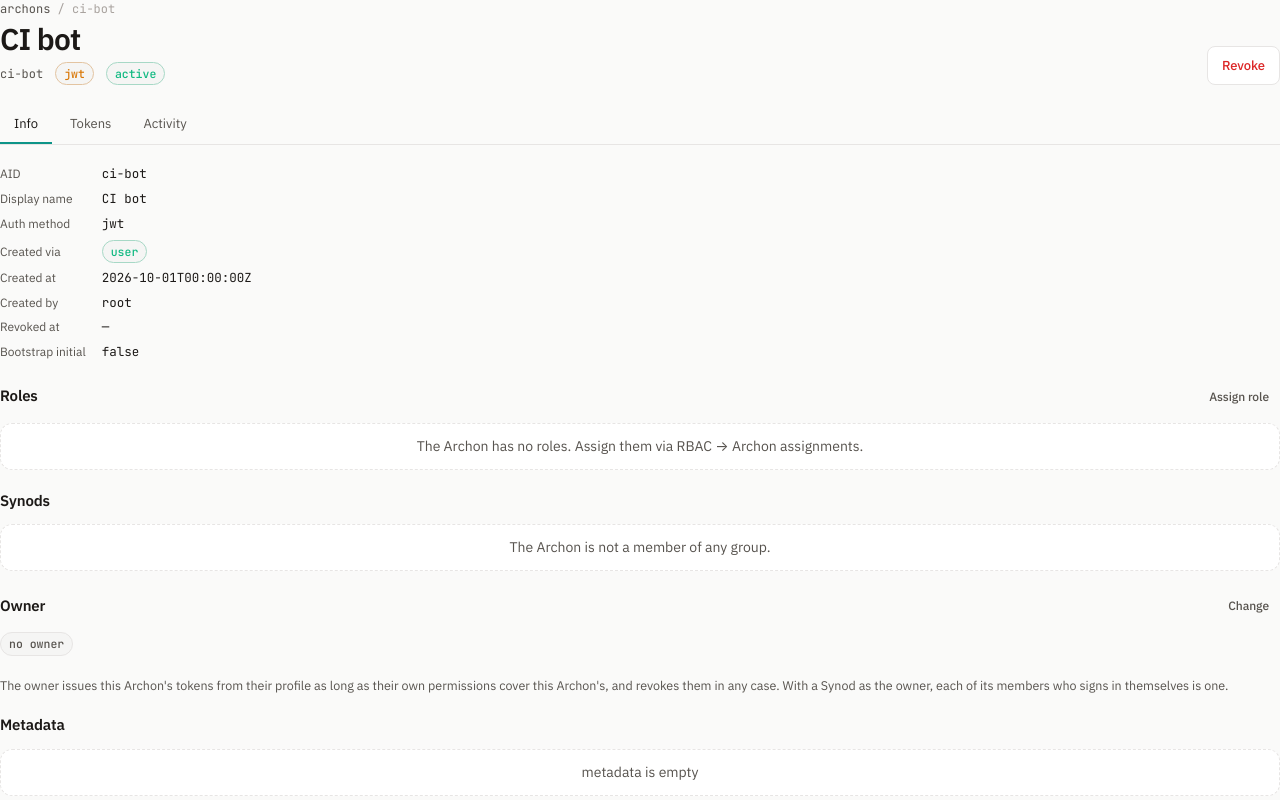
Test: Archon card → owner › Change sets a Synod as the owner: PUT /v1/operators/{aid}/owner
Expected: the element with test id "archon-owner" reads "no owner", [9, 636, 64, 651]
Click the button with test id "owner-change-btn" at coordinates (1249, 606), box [1217, 591, 1279, 620]
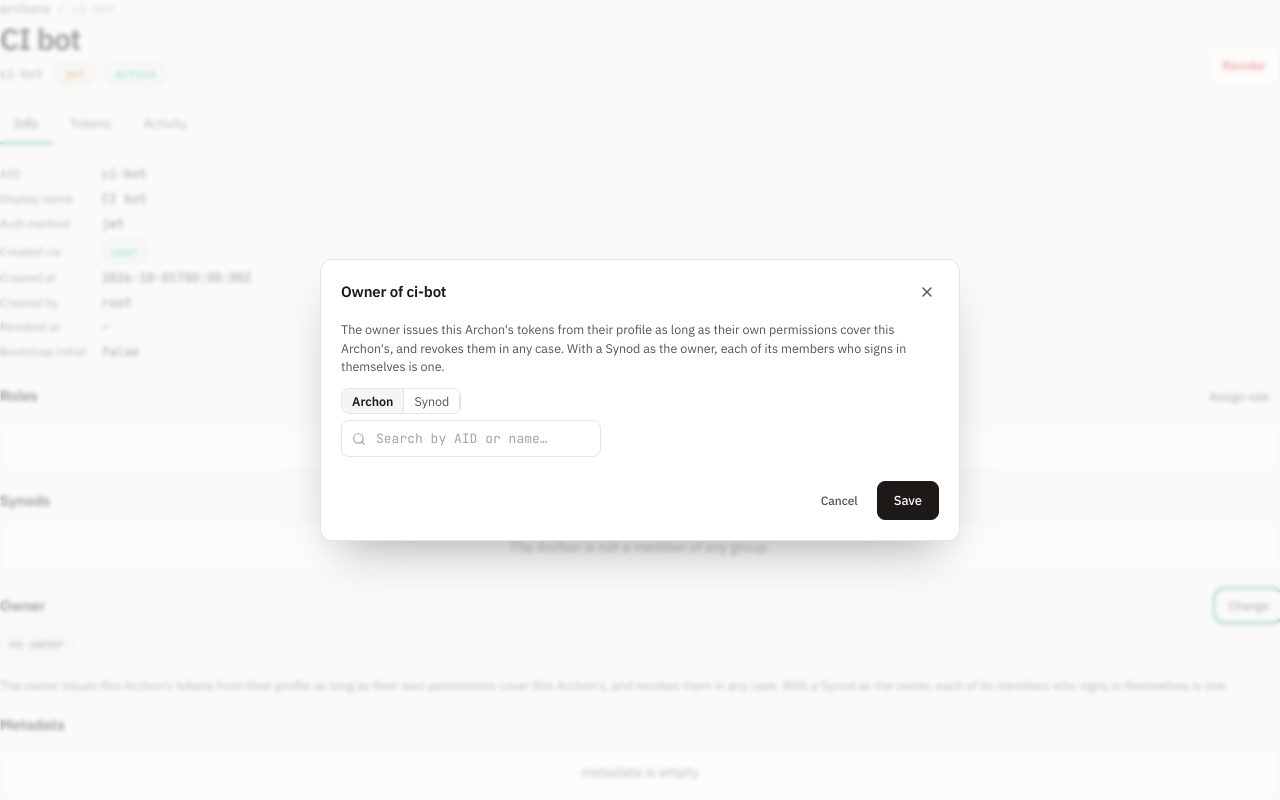
Click the radio button with test id "owner-set-kind-synod" at coordinates (432, 401), box [404, 389, 460, 413]
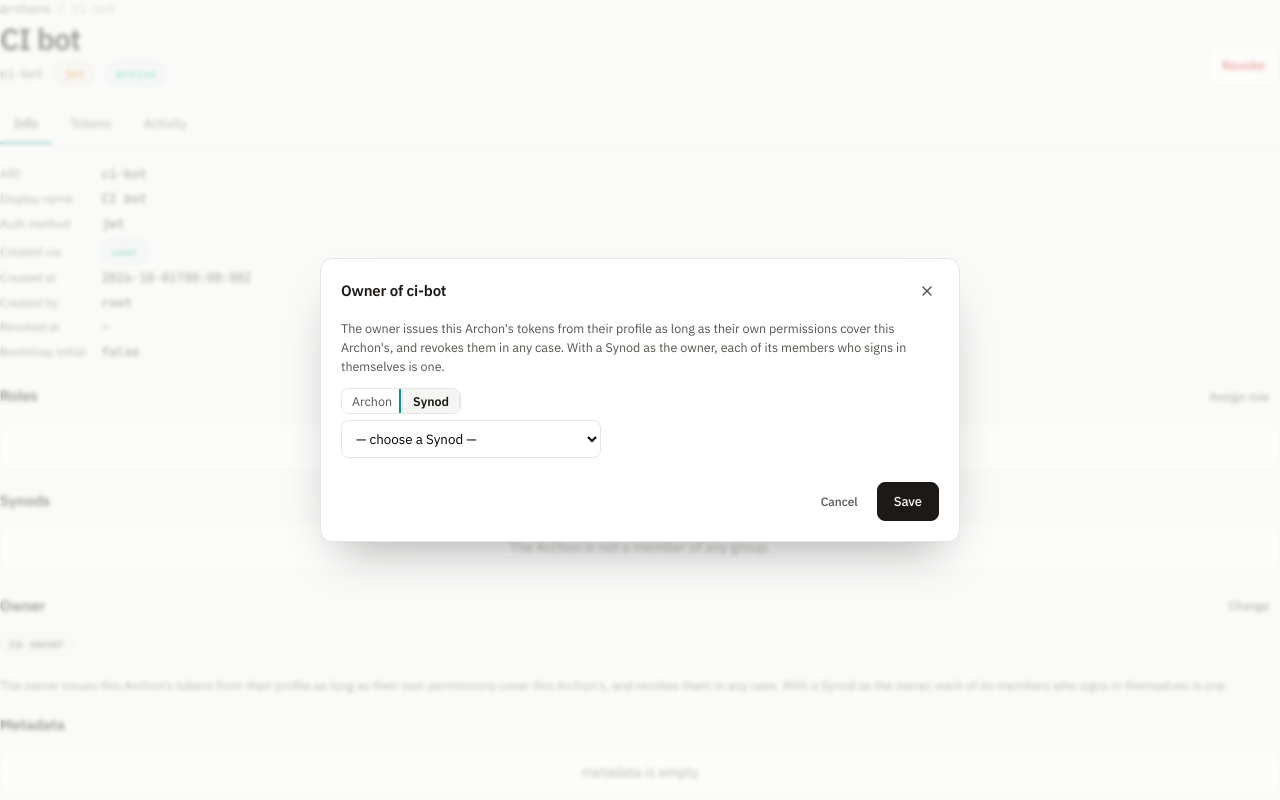
Expected: the dropdown with test id "owner-set-synod" is enabled
Select "dba" in the dropdown with test id "owner-set-synod" at coordinates (471, 439), box [341, 420, 601, 458]
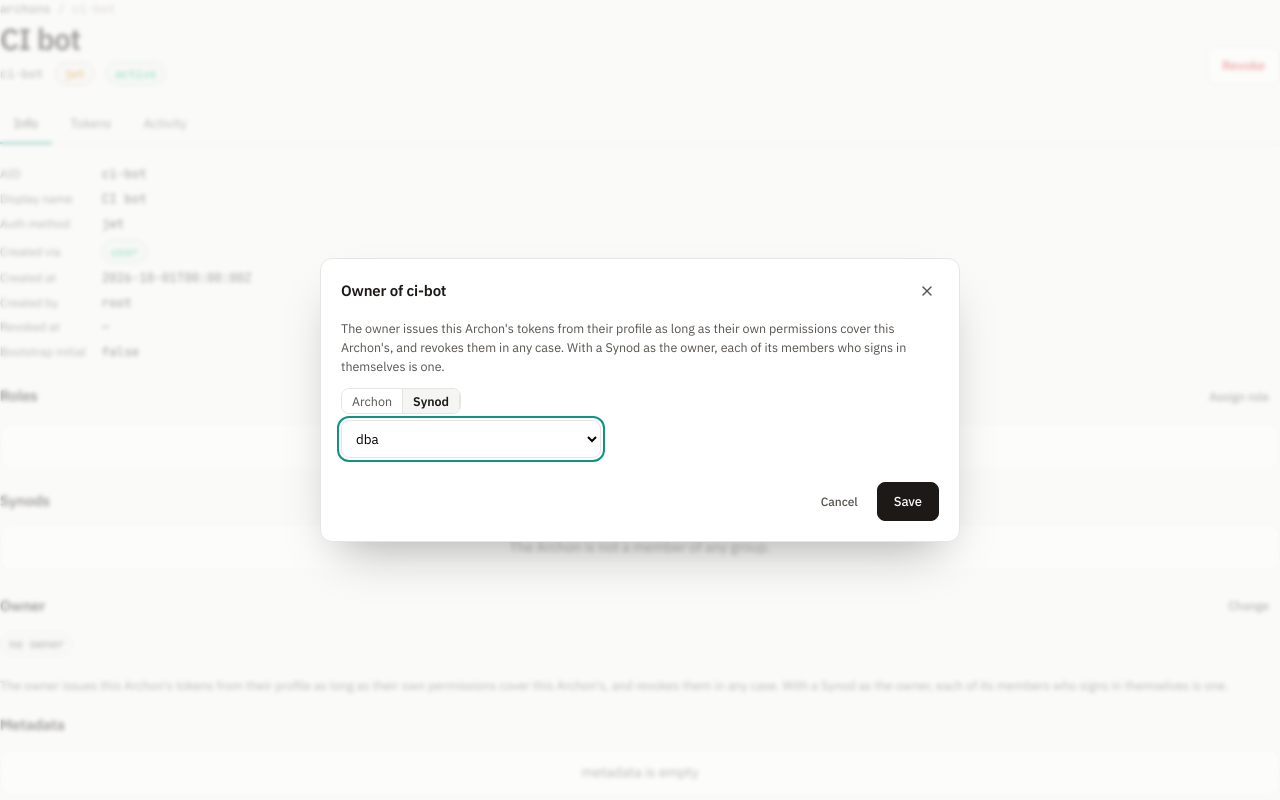
Click the button with test id "owner-set-submit" at coordinates (908, 501), box [877, 482, 939, 521]
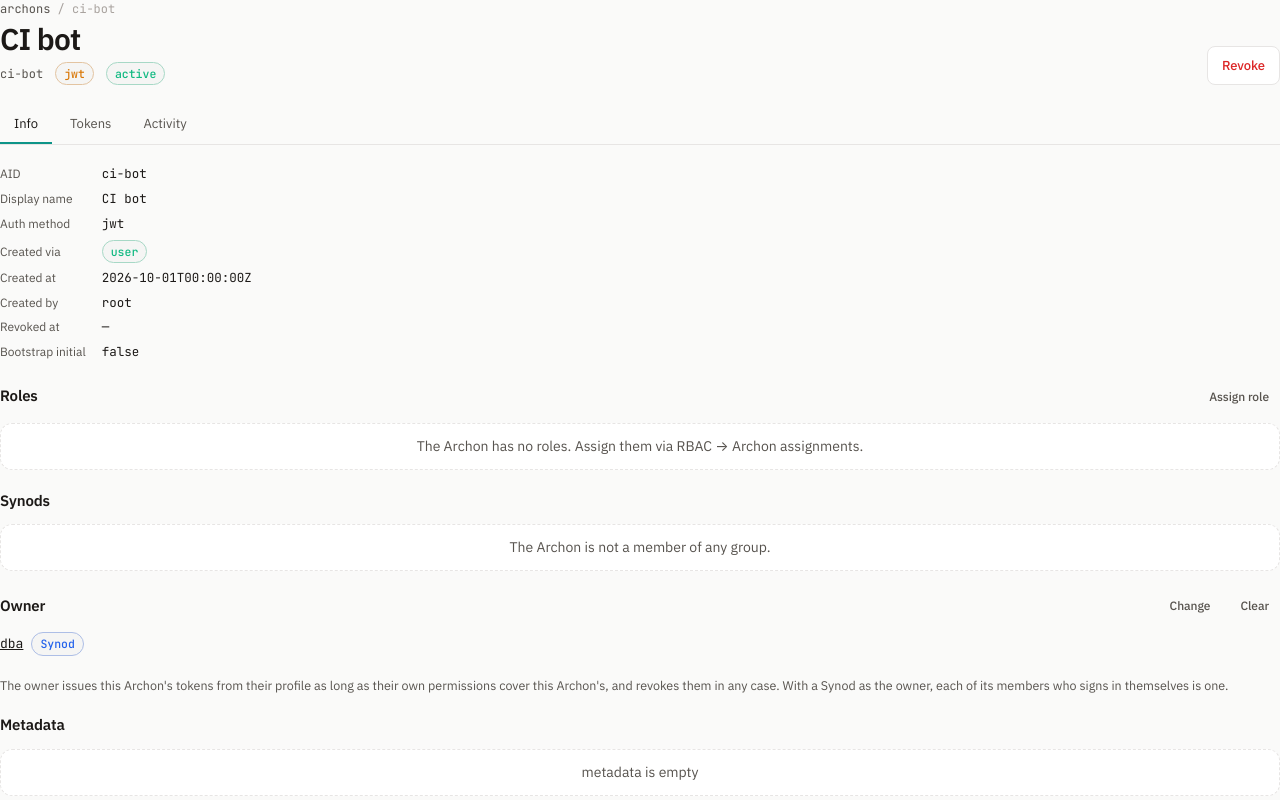
Expected: the heading "Owner of ci-bot" is gone
